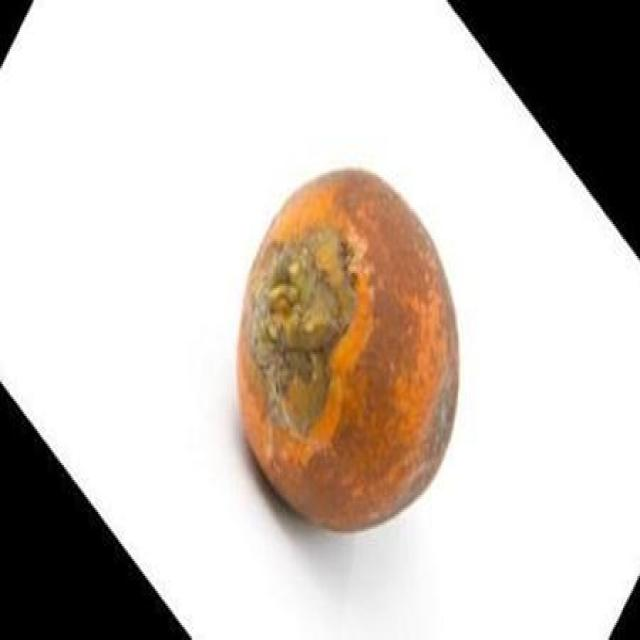good: (236, 169, 461, 535)
